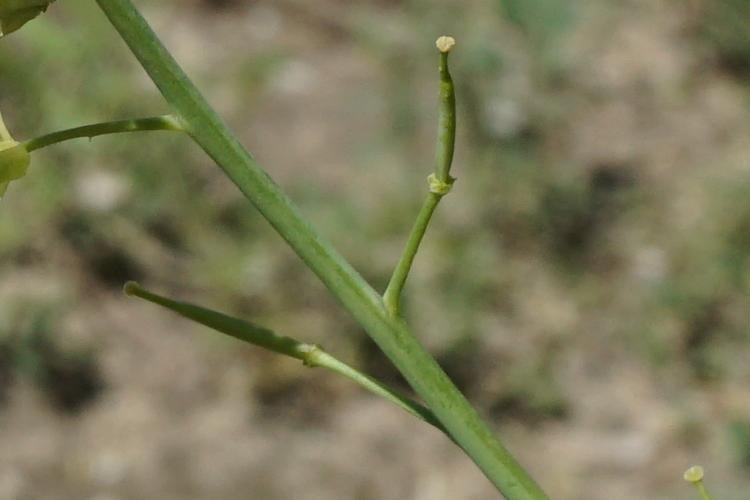pod: (94, 275, 391, 408), (371, 14, 491, 328)
